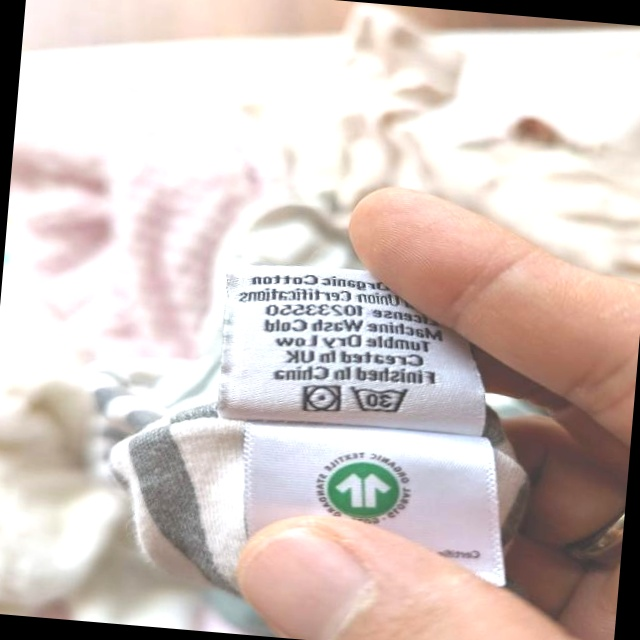30C: (346, 380, 414, 419)
tumble_dry_low: (298, 380, 345, 418)
